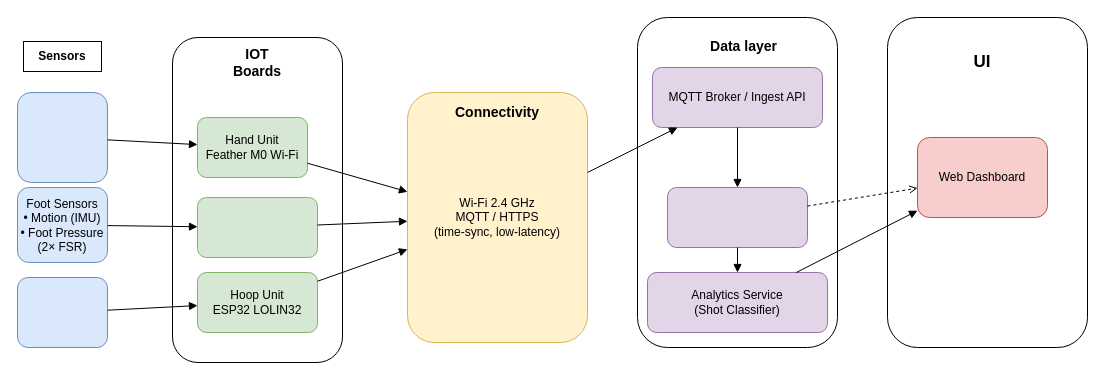
Image size: 1105x380. Some labels were removed from this diagram. Each missing label, with the centre of its shape:
"Foot Unit ESP32 LOLIN32" goes at point (257, 227).
"Hand Sensors • Motion (IMU) • Finger Pressure (3× FSR)" goes at point (62, 137).
"Hoop Sensor • Infra-Red Beam" goes at point (62, 312).
"Time-Series DB" goes at point (737, 217).
